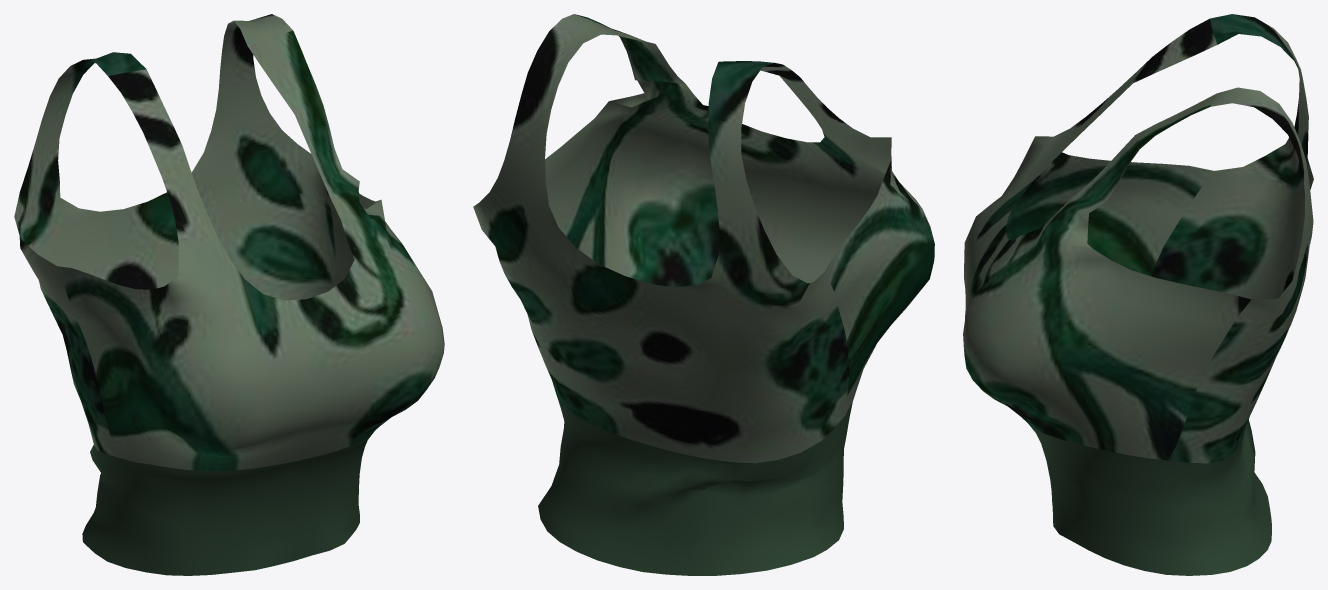
File: vestidoplaya1.obj
The picture shows the model from 3 angles, left to right: view 1: azimuth 30°, elevation 25°; view 2: azimuth 150°, elevation 25°; view 3: azimuth 270°, elevation 25°; orthographic projection. The views are drawn at different scales.
Parts seen in each view (by area): view 1: Pattern2D_10884, Pattern2D_10885, Pattern2D_526297; view 2: Pattern2D_10885, Pattern2D_10884, Pattern2D_526297; view 3: Pattern2D_10884, Pattern2D_10885, Pattern2D_526297.
Part boxes in pixels (x1,y1,x2,y2): Pattern2D_10884: [57, 30, 444, 471]; Pattern2D_10885: [14, 14, 337, 457]; Pattern2D_526297: [82, 432, 373, 575]; Pattern2D_10885: [473, 14, 849, 463]; Pattern2D_10884: [545, 14, 934, 413]; Pattern2D_526297: [538, 394, 852, 575]; Pattern2D_10884: [963, 18, 1251, 460]; Pattern2D_10885: [1151, 14, 1313, 463]; Pattern2D_526297: [1028, 419, 1271, 575].
Bounding box in the file's own units: 0.3001 × 0.4495 × 0.3076.
